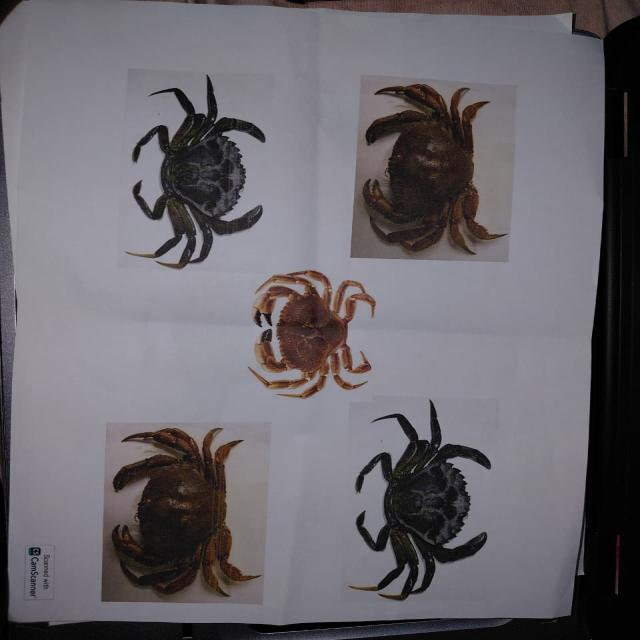egc: (132, 76, 264, 268), (387, 406, 485, 598)
